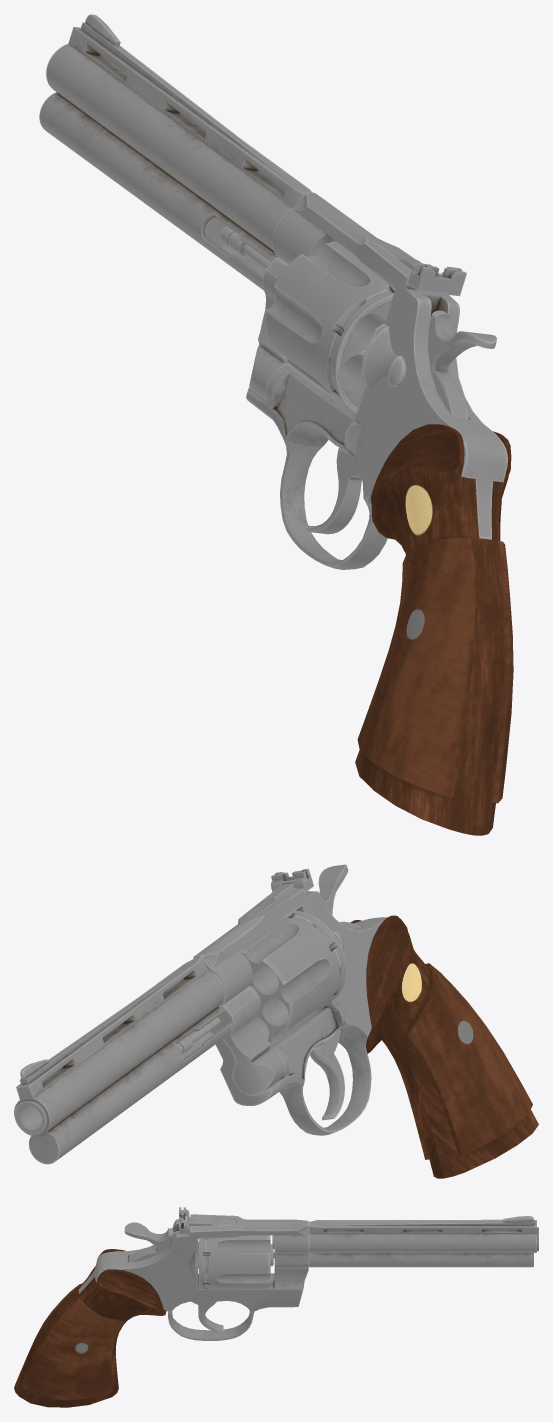
Rendered from colt-python.glb.
The picture shows the model from 3 angles, top to bottom: view 1: azimuth 30°, elevation 25°; view 2: azimuth 150°, elevation 25°; view 3: azimuth 270°, elevation 25°; orthographic projection. The views are drawn at different scales.
Visible parts, largest first — view 1: grip_low.001, barrel_low.001, body_low.001, wheel_low.001, Hammer_low.001, wheel_rot_low.001, trigger_low.001, slot_low.001, sight_low.001; view 2: grip_low.001, barrel_low.001, body_low.001, wheel_low.001, wheel_rot_low.001, trigger_low.001, Hammer_low.001, sight_low.001, handle_low.001, sight_fixed_low.001; view 3: grip_low.001, barrel_low.001, body_low.001, wheel_low.001, Hammer_low.001, trigger_low.001, sight_fixed_low.001, sight_low.001.
Boxes of the visible parts, x1,y1,x2,y2 form: grip_low.001: [355, 424, 513, 835]; barrel_low.001: [39, 14, 311, 290]; body_low.001: [246, 192, 507, 569]; wheel_low.001: [265, 242, 395, 412]; Hammer_low.001: [428, 310, 496, 419]; wheel_rot_low.001: [249, 257, 292, 401]; trigger_low.001: [304, 447, 361, 534]; slot_low.001: [360, 324, 398, 389]; sight_low.001: [407, 263, 466, 296]; grip_low.001: [350, 915, 538, 1178]; barrel_low.001: [14, 958, 232, 1164]; body_low.001: [193, 888, 387, 1135]; wheel_low.001: [238, 910, 346, 1044]; wheel_rot_low.001: [214, 987, 285, 1095]; trigger_low.001: [310, 1030, 344, 1120]; Hammer_low.001: [318, 864, 360, 929]; sight_low.001: [271, 868, 313, 892]; handle_low.001: [176, 985, 260, 1054]; sight_fixed_low.001: [248, 880, 294, 915]; grip_low.001: [14, 1249, 166, 1407]; barrel_low.001: [308, 1216, 538, 1267]; body_low.001: [79, 1214, 308, 1340]; wheel_low.001: [198, 1235, 270, 1289]; Hammer_low.001: [124, 1222, 174, 1262]; trigger_low.001: [191, 1301, 223, 1332]; sight_fixed_low.001: [185, 1215, 236, 1227]; sight_low.001: [179, 1207, 189, 1234].
Size of the model in its own units: 0.0669 by 0.1324 by 0.2894.
Materials: 1 (1 with a texture image).
